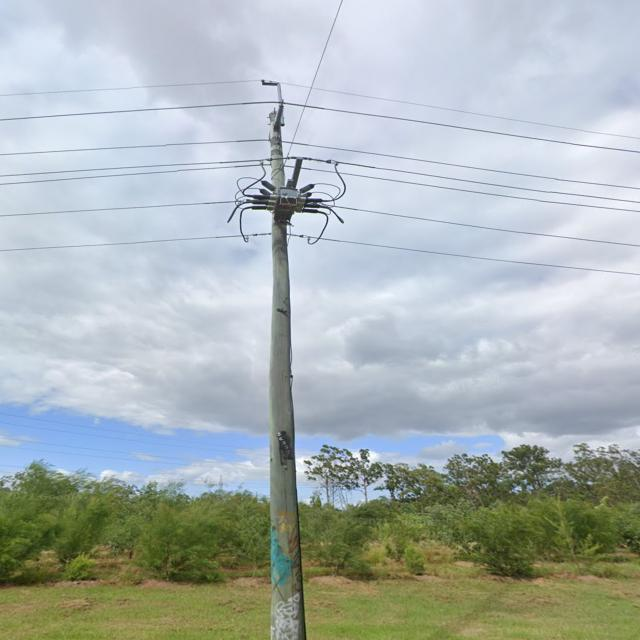HV-switch: (245, 178, 332, 216)
HV-transmission: (252, 80, 326, 238)
crossarm: (288, 157, 306, 189), (274, 100, 285, 131)
timber-pole: (266, 114, 305, 640)
